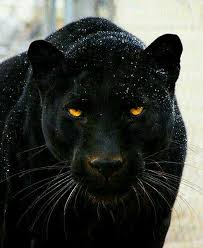panther: (1, 15, 187, 246)
